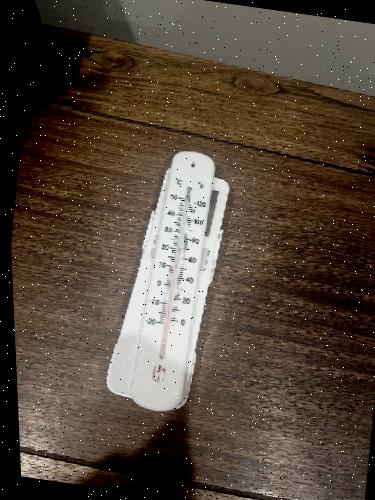thermo: (126, 149, 228, 410)
